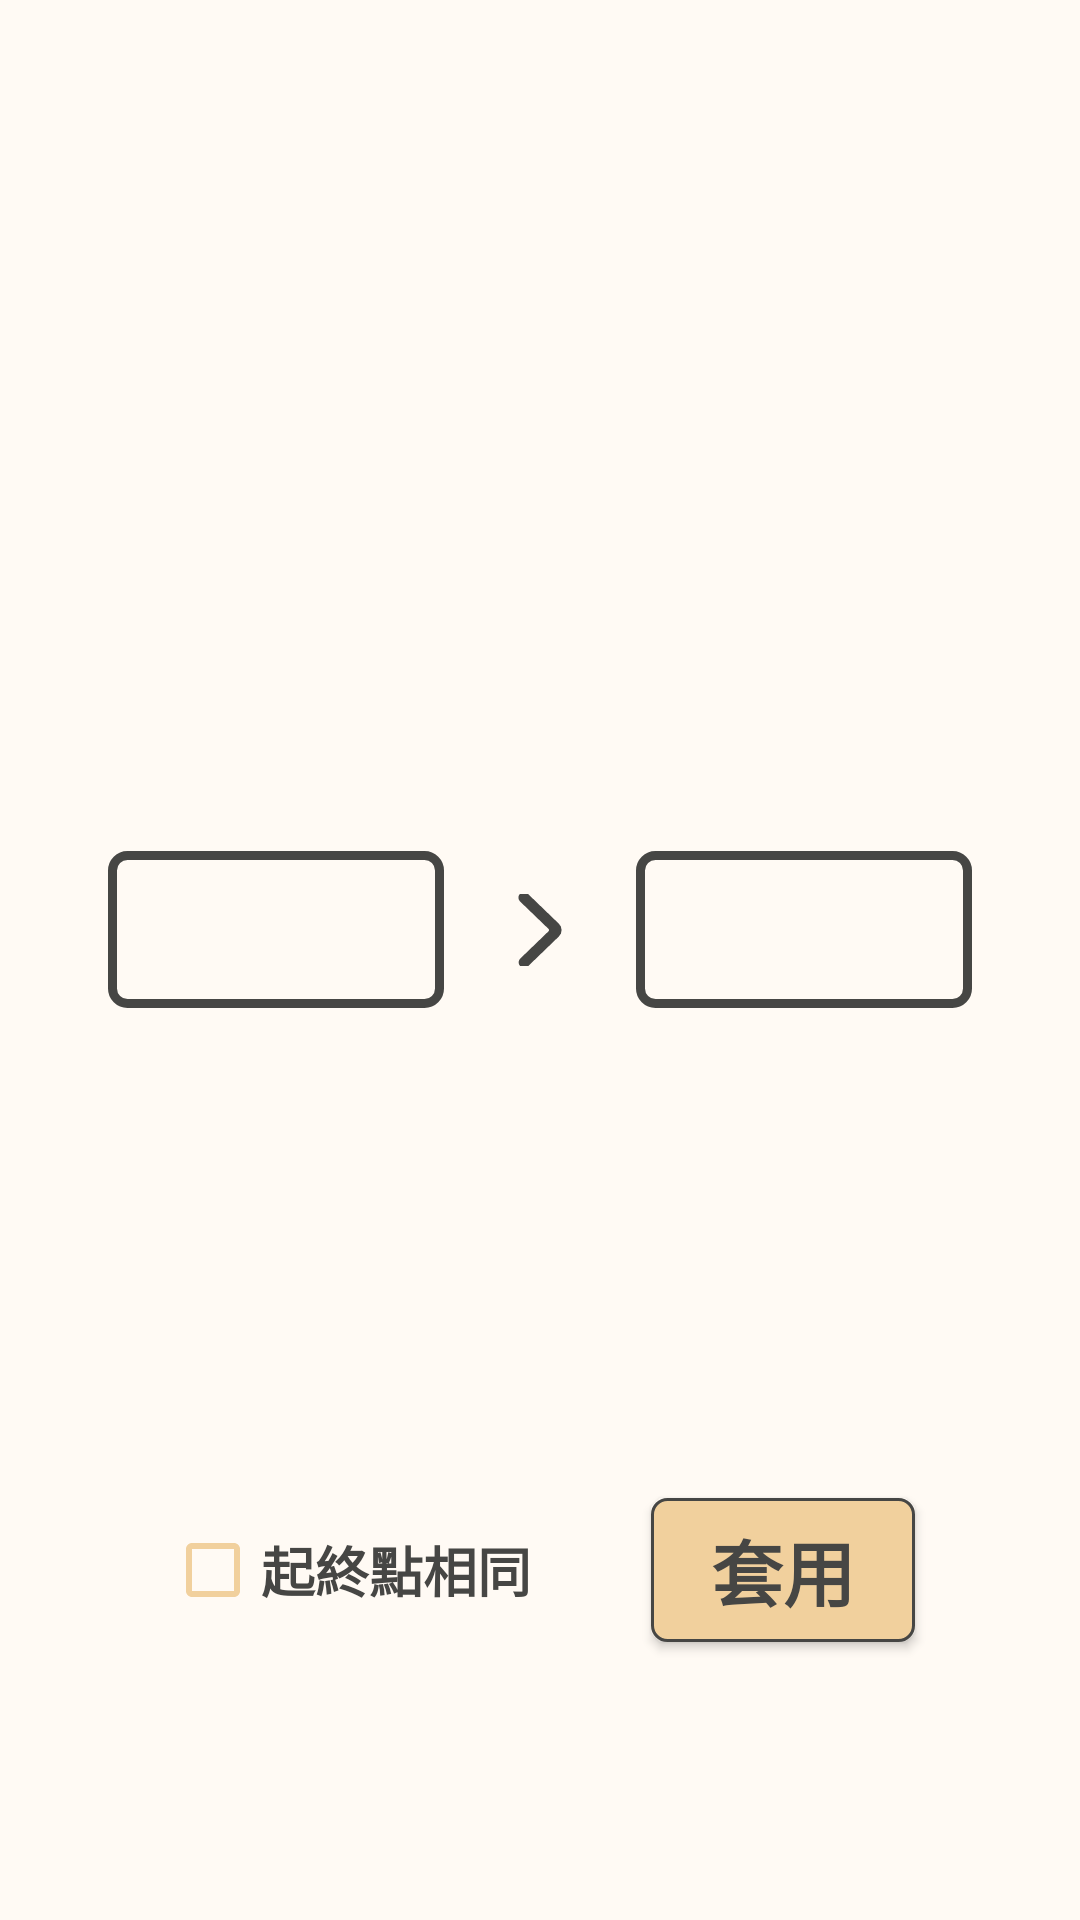

Icon click points for this 1080w x 1920h phone screenshot, format (x,y):
arrow right: (540,930)
